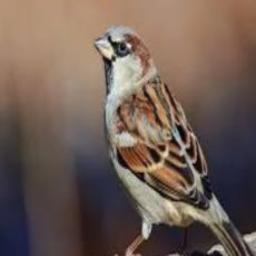Sparrow: (95, 25, 248, 256)
